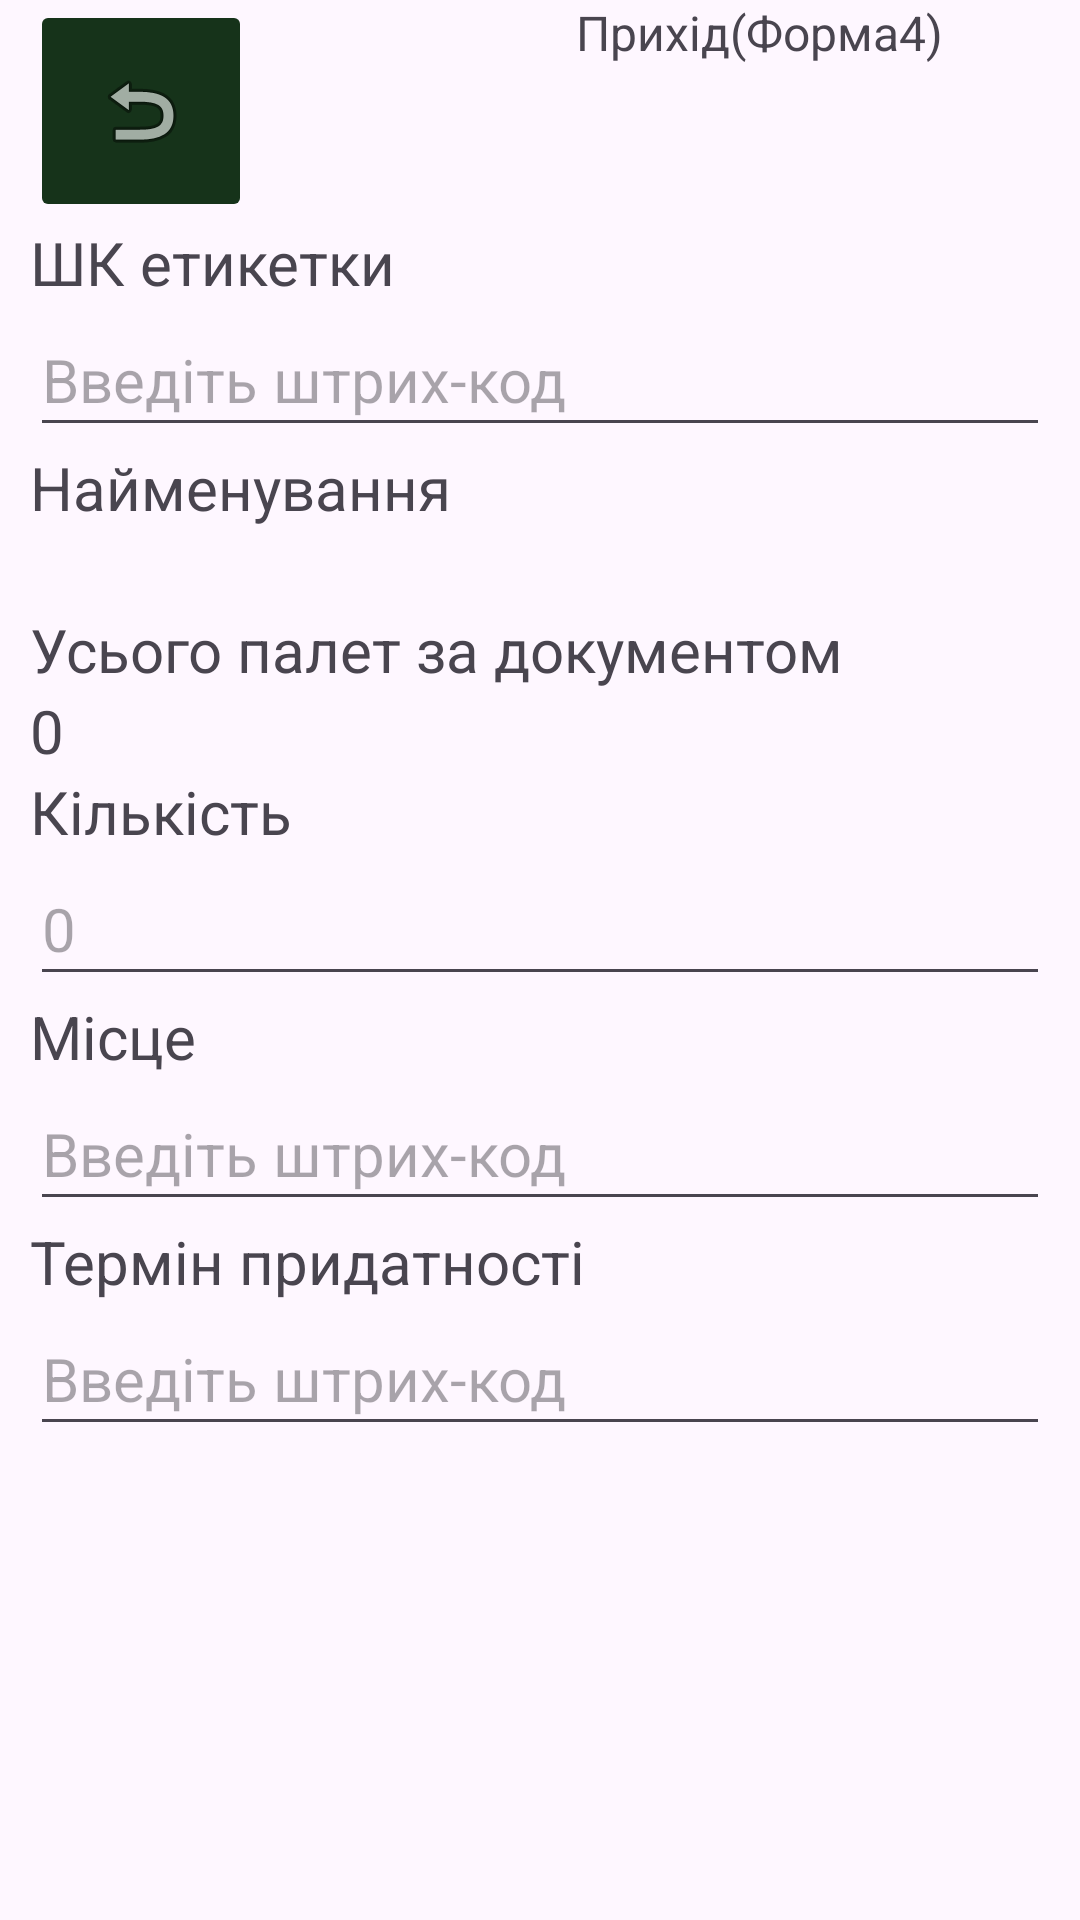

Icon bounding boxes for this 1080w x 1920h phone screenshot, format bbox=[x1, y1, x2, y2]:
На головну: bbox=[42, 18, 240, 204]
